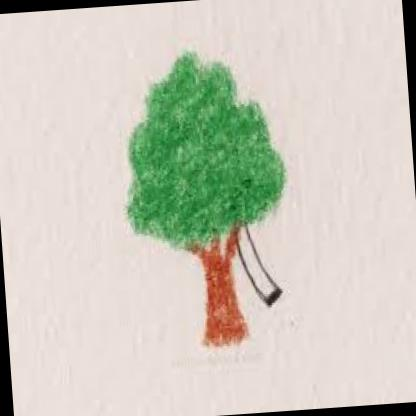branch_cut: (184, 224, 245, 277)
crown_cloud: (117, 50, 290, 253)
trunk_straight: (200, 263, 247, 330)
